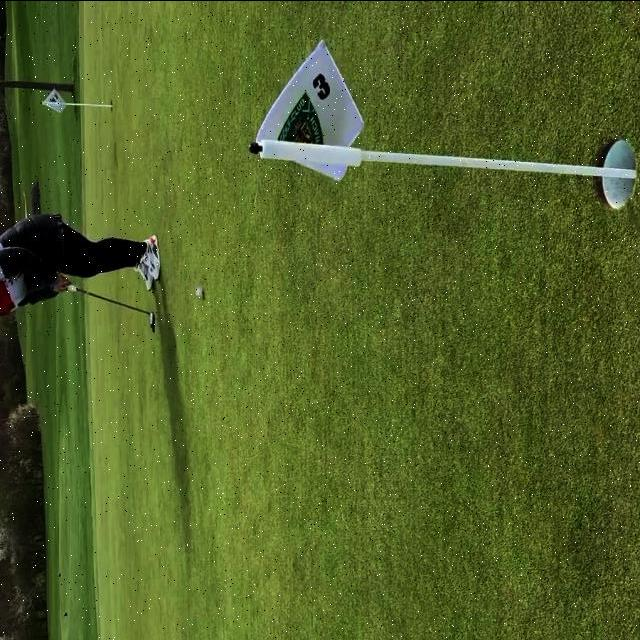ClubHandle: (64, 284, 156, 332)
ClubHead: (149, 311, 155, 329)
GolfBall: (193, 285, 203, 298)
